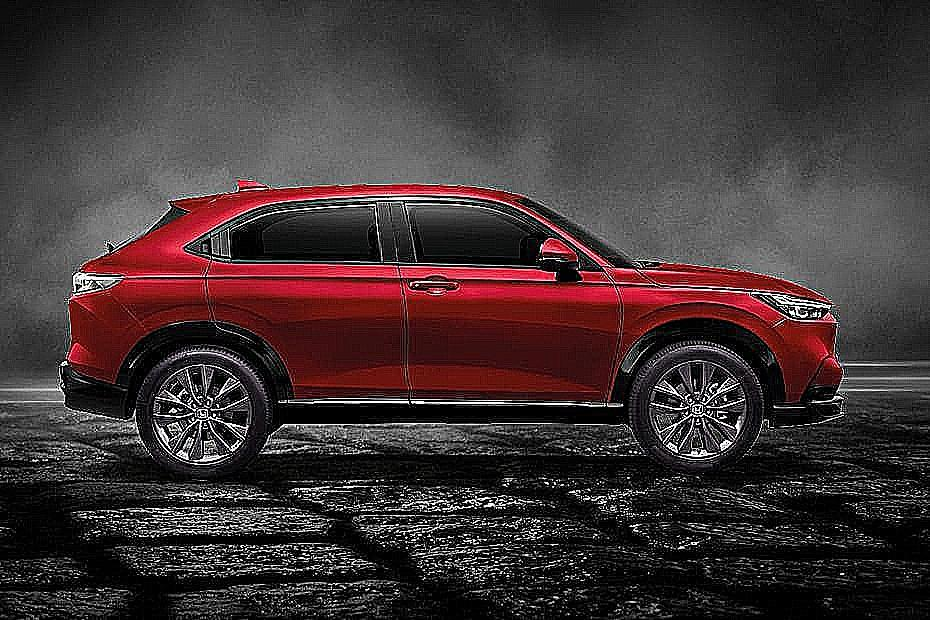Car hood: (631, 259, 837, 305)
Driver-s door - -F-R-: (377, 179, 626, 439)
Fender - -F-R-: (595, 267, 791, 407)
Fender - -R-R-: (81, 190, 260, 337)
Front bumper: (756, 311, 846, 434)
Headlight - -R-: (750, 290, 837, 321)
Passenger-s door - -R-R-: (197, 181, 422, 432)
Rear bumper: (48, 293, 142, 420)
Rear light - -R-: (68, 270, 124, 297)
Side bumper - -R-: (264, 379, 637, 428)
Side mirror - -R-: (533, 232, 586, 289)
